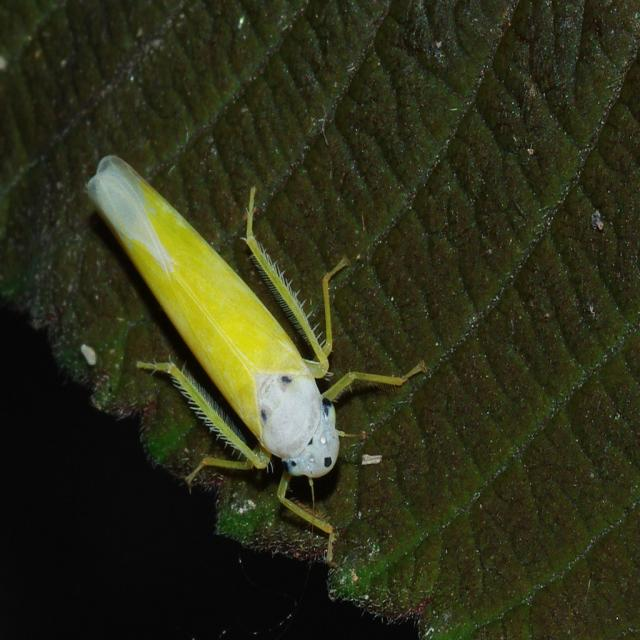Yechan: (78, 151, 432, 563)
